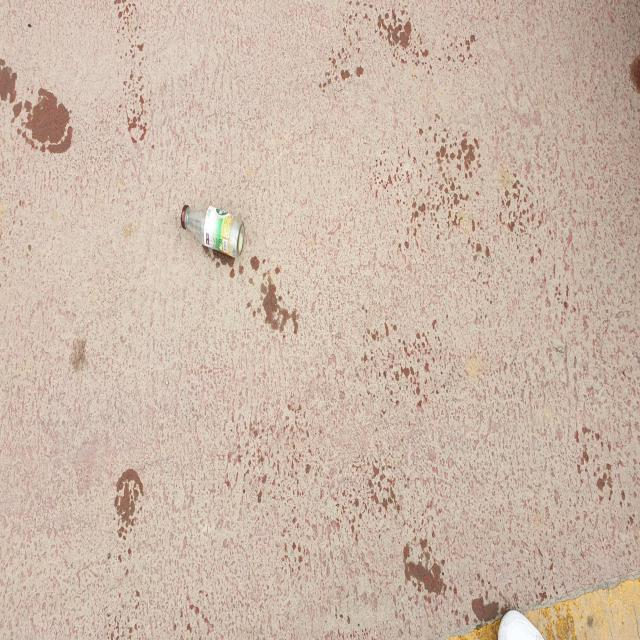glass: (180, 204, 245, 257)
